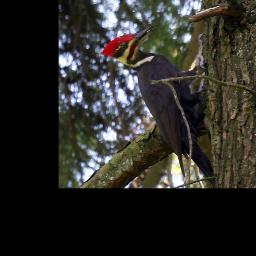Woodpecker: (99, 25, 218, 188)
